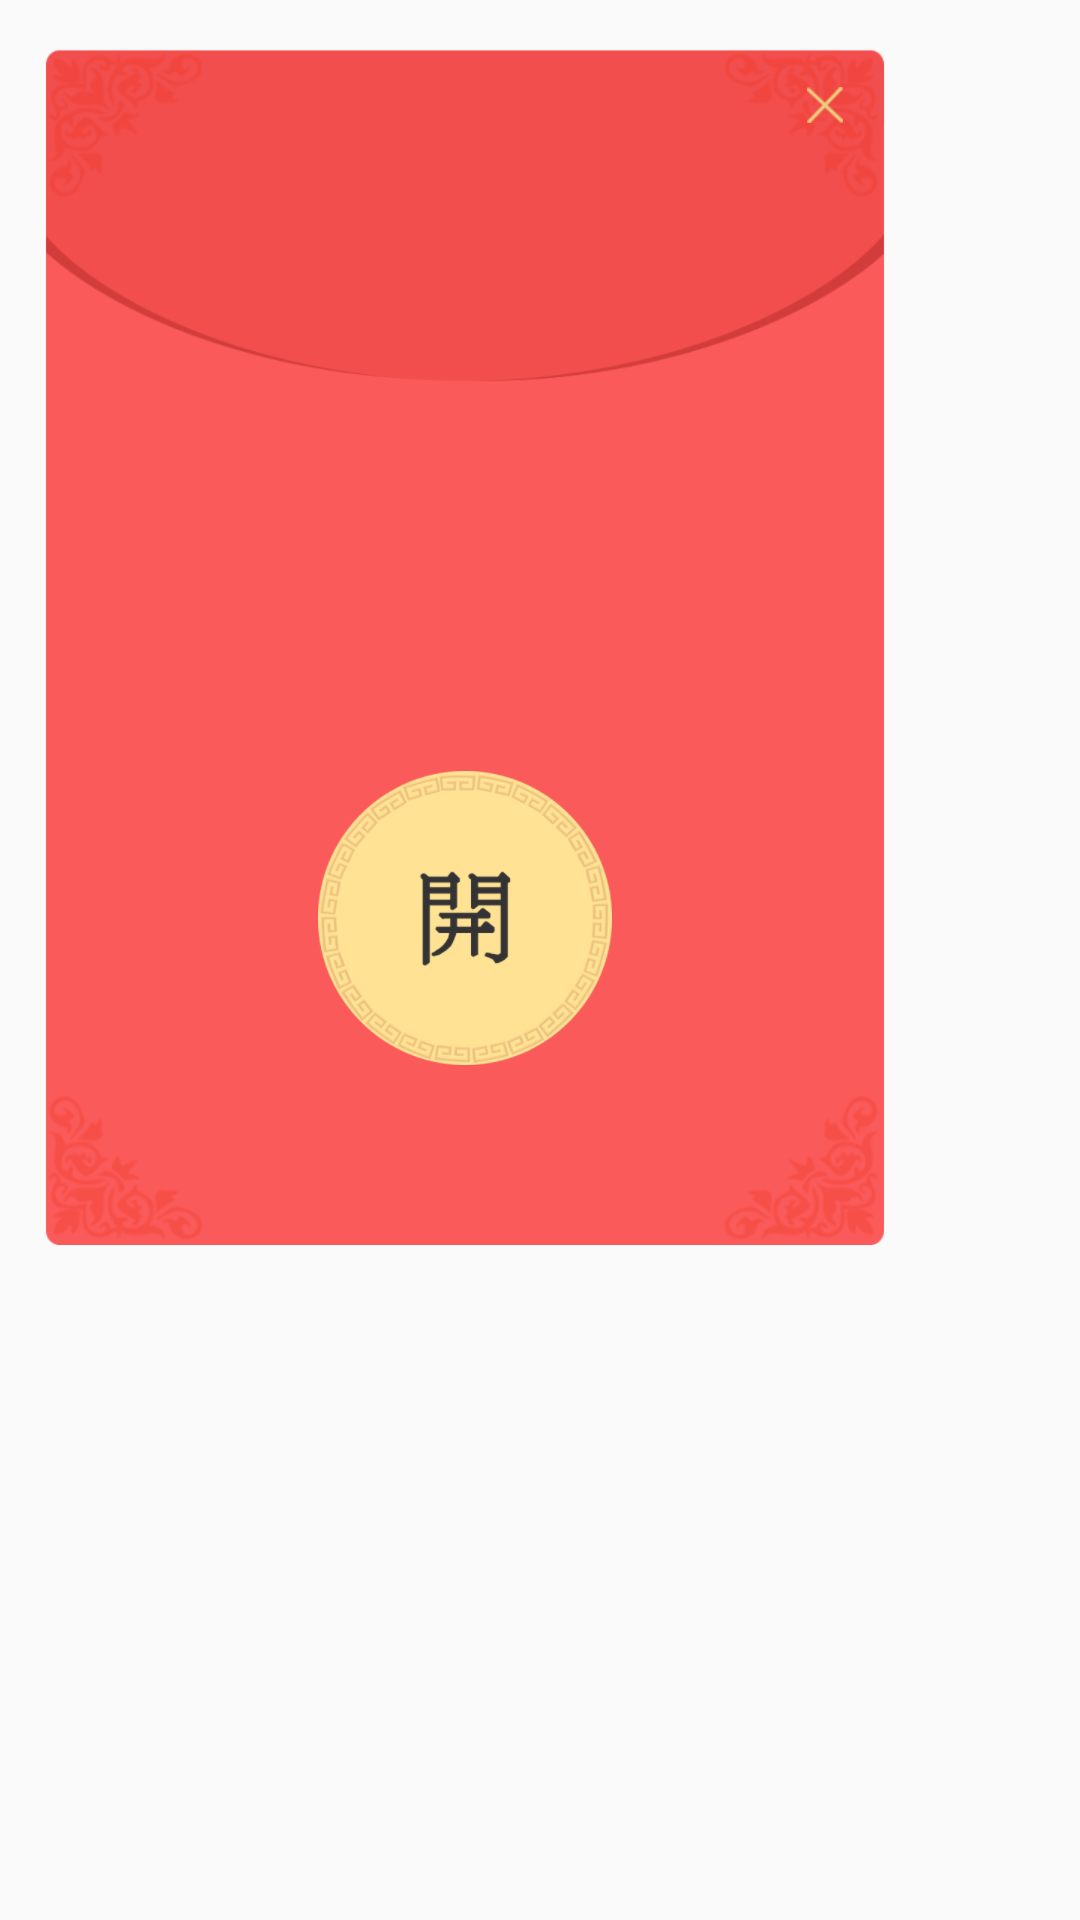

Locate icon controls on the screen. Image size 1080 x 1920, boxes as (x1, y1, x2, y2).
packet close: (807, 87, 843, 123)
